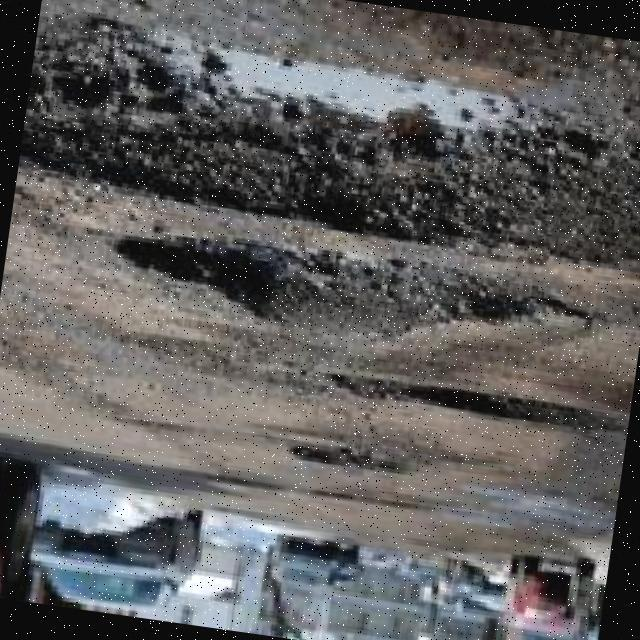Pothole: (20, 21, 640, 269), (117, 237, 541, 334), (405, 384, 629, 435), (289, 443, 418, 475)
